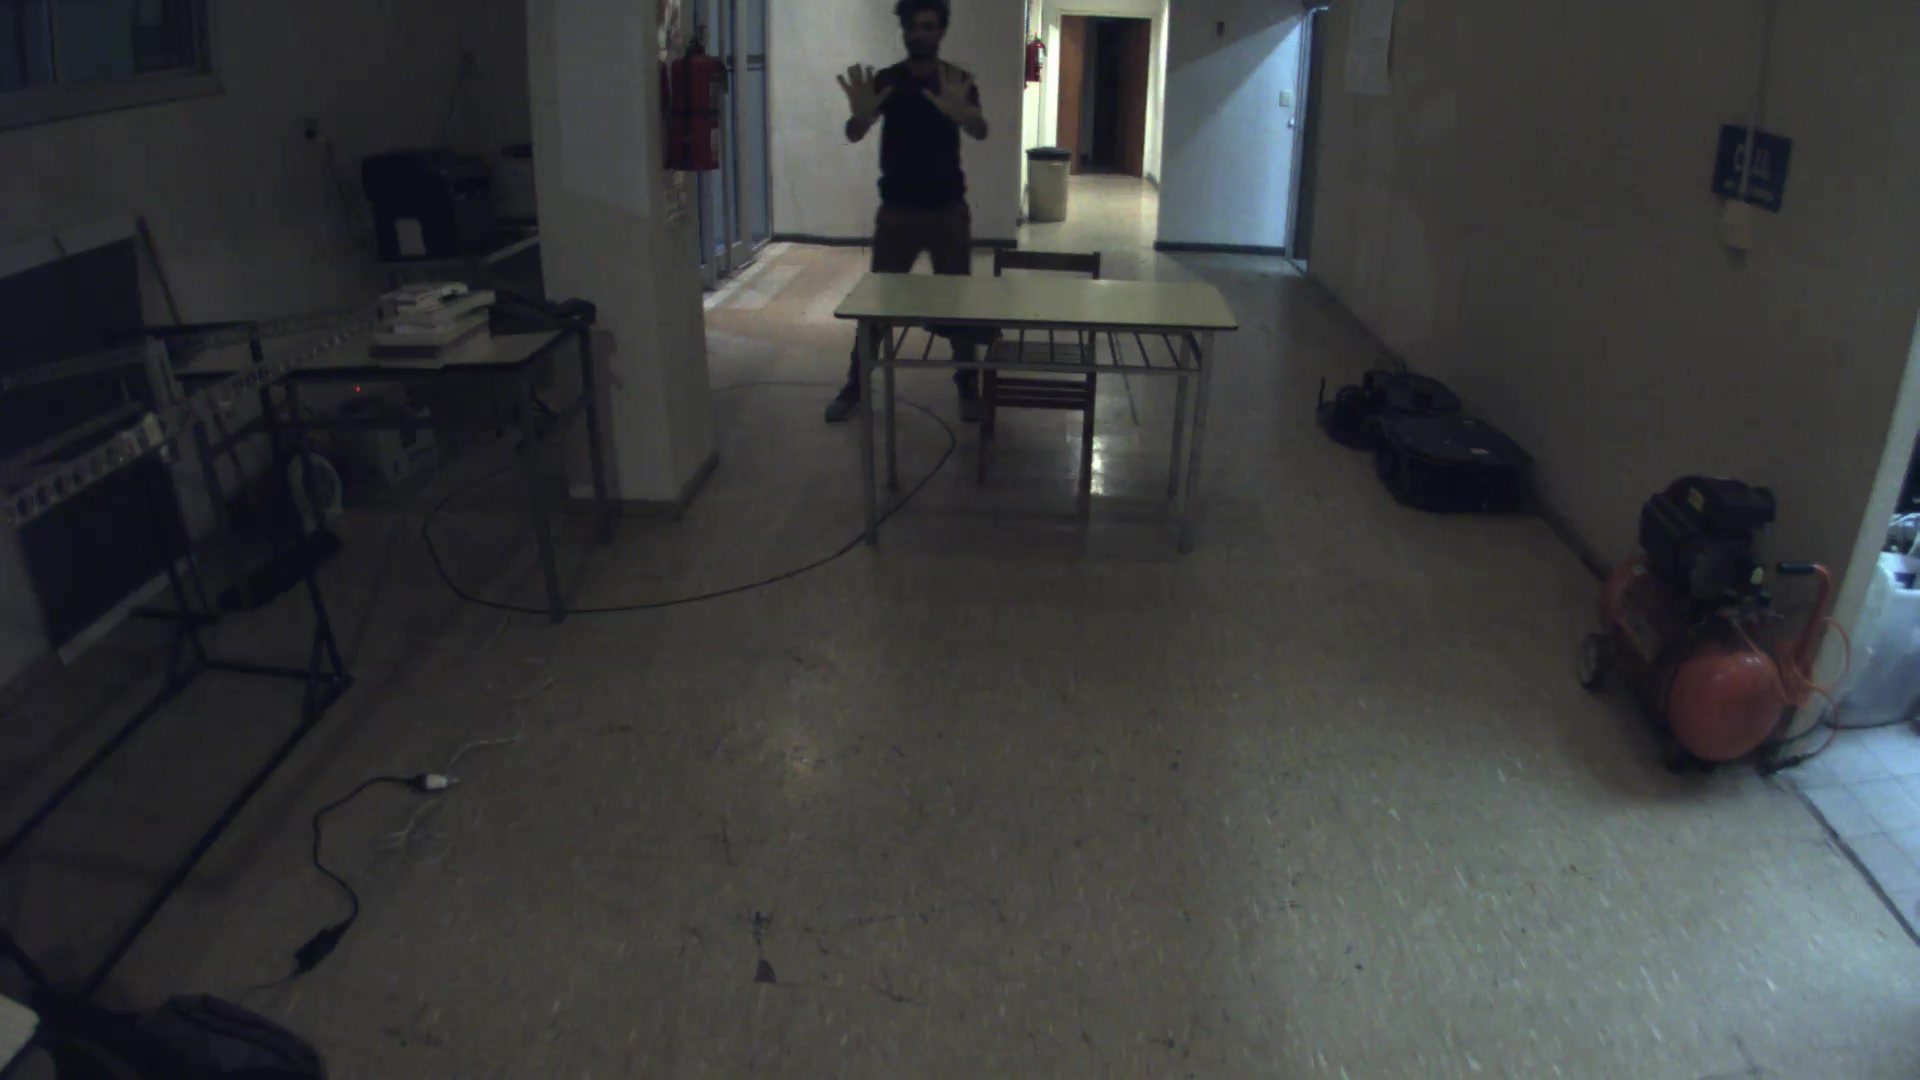hand: (833, 55, 899, 137), (913, 53, 982, 125)
